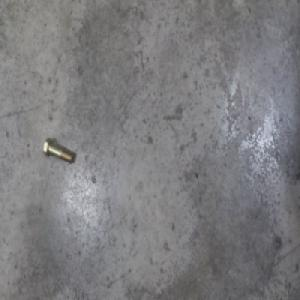Bolt: (42, 137, 73, 166)
